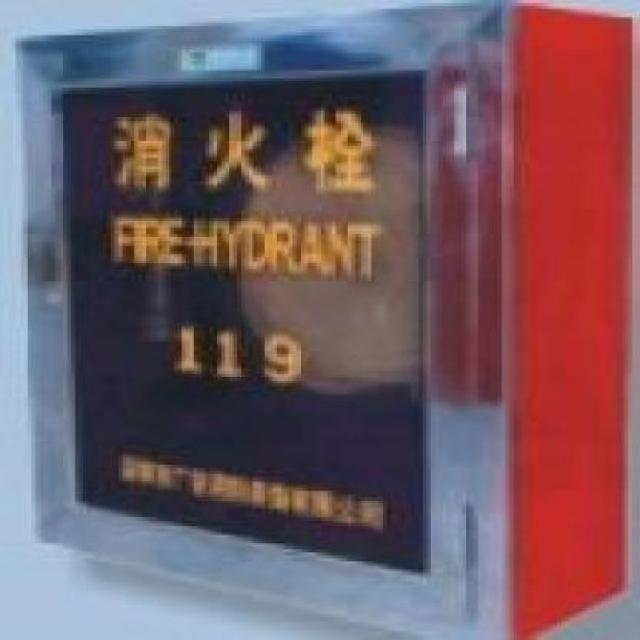firehydrant: (12, 0, 640, 640)
